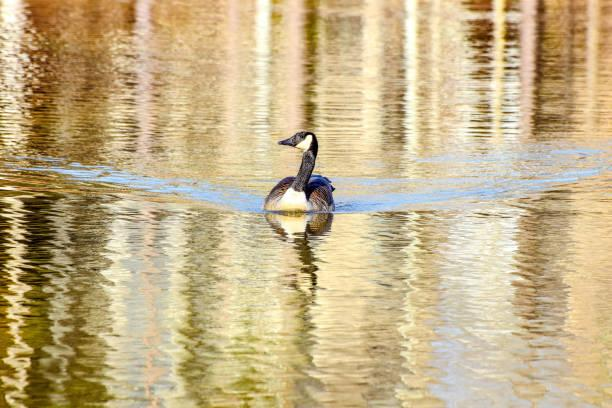Canadian-Goose: (261, 131, 339, 215)
